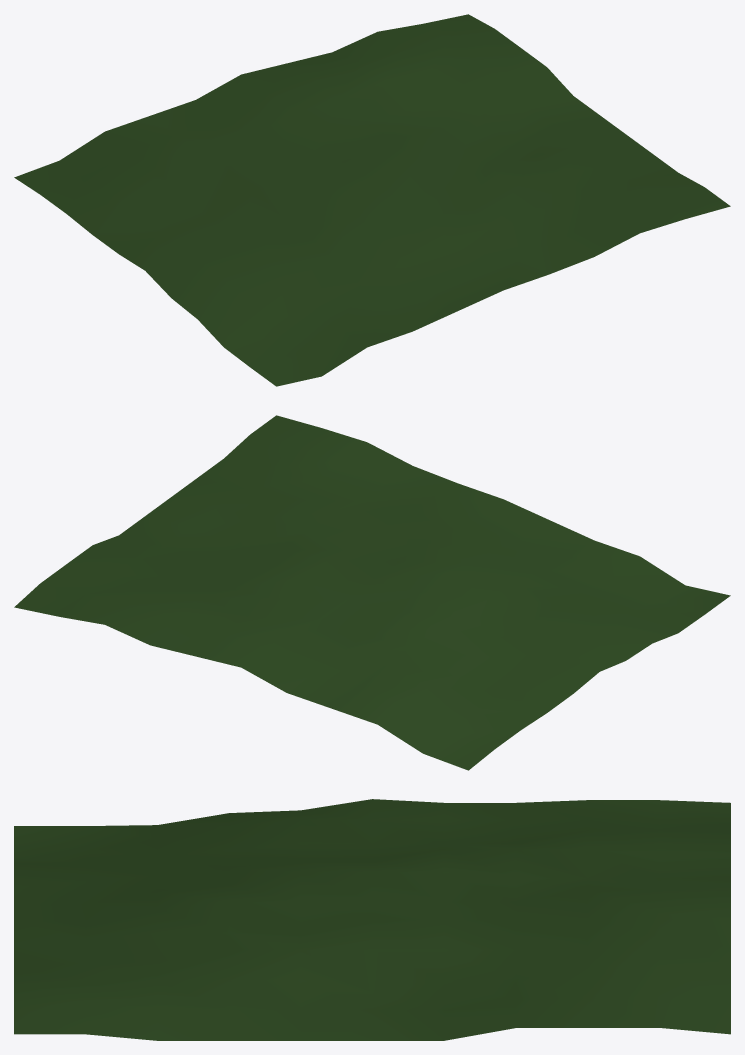
3 renders of one model, top to bottom at view 1: azimuth 30°, elevation 25°; view 2: azimuth 150°, elevation 25°; view 3: azimuth 270°, elevation 25°, orthographic. The views are drawn at different scales.
Parts seen in each view (by area): view 1: TerrainModel.035; view 2: TerrainModel.035; view 3: TerrainModel.035.
Part boxes in pixels (x1=…): TerrainModel.035: x1=14, y1=14, x2=730, y2=386; TerrainModel.035: x1=14, y1=415, x2=730, y2=770; TerrainModel.035: x1=14, y1=799, x2=730, y2=1040.
Size of the model in its own units: 19608 by 3093 by 19608.
